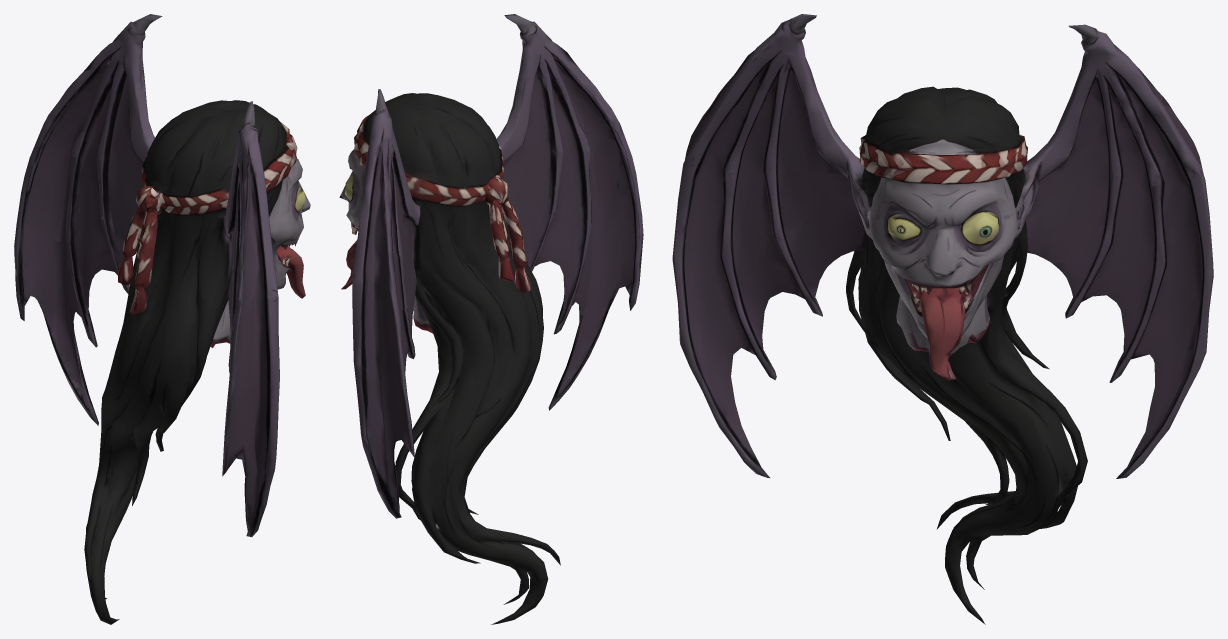
Rendered from cdd76e13-c04c-4cc0-a6fb-878d3b2a0085_model_url.glb.
The picture shows the model from 3 angles, left to right: view 1: azimuth 30°, elevation 25°; view 2: azimuth 150°, elevation 25°; view 3: azimuth 270°, elevation 25°; orthographic projection. The views are drawn at different scales.
Visible parts, largest first — view 1: tripo_node_cdd76e13-c04c-4cc0-a6fb-878d3b2a0085; view 2: tripo_node_cdd76e13-c04c-4cc0-a6fb-878d3b2a0085; view 3: tripo_node_cdd76e13-c04c-4cc0-a6fb-878d3b2a0085.
Part boxes in pixels (box(x1,y1,x2,y2)): tripo_node_cdd76e13-c04c-4cc0-a6fb-878d3b2a0085: box(14, 14, 310, 624); tripo_node_cdd76e13-c04c-4cc0-a6fb-878d3b2a0085: box(339, 14, 643, 624); tripo_node_cdd76e13-c04c-4cc0-a6fb-878d3b2a0085: box(672, 14, 1213, 624).
Bounding box in the file's own units: 0.4151 × 1 × 0.7632.
1 material, 1 textured.
